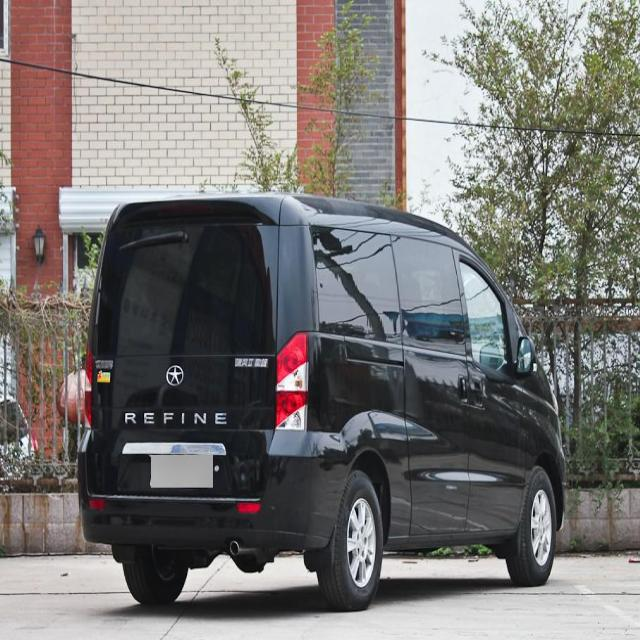back_glass: (90, 217, 283, 360)
back_left_side_light: (81, 344, 95, 432)
back_right_side_light: (274, 328, 310, 435)
door: (390, 231, 469, 537)
front_right_side_door: (451, 240, 528, 536)
front_right_side_mirror: (514, 332, 538, 382)
rear_bumper: (77, 426, 333, 552)
wheel: (318, 468, 384, 608), (506, 465, 556, 585), (118, 547, 188, 604)
